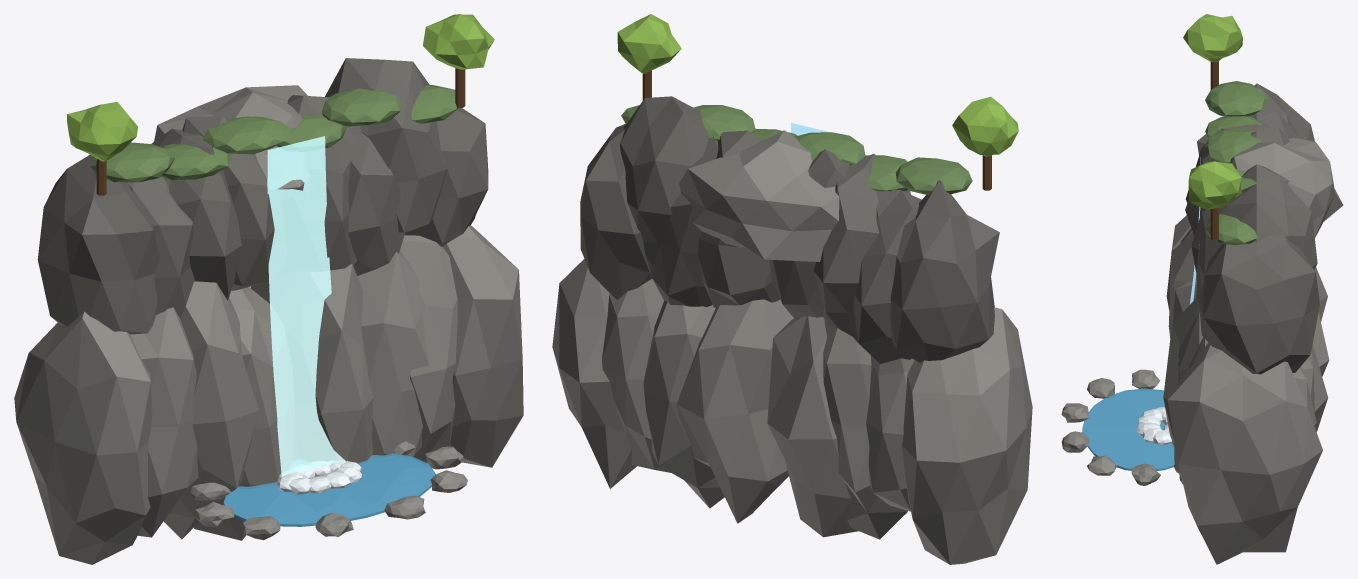
Rendered from for_waterfall_v01.glb.
3 renders of one model, left to right at view 1: azimuth 30°, elevation 25°; view 2: azimuth 150°, elevation 25°; view 3: azimuth 270°, elevation 25°, orthographic. The views are drawn at different scales.
Visible parts, largest first — view 1: waterfall; view 2: waterfall; view 3: waterfall.
Boxes of the visible parts, x1,y1,x2,y2 form: waterfall: (14, 14, 523, 564); waterfall: (552, 14, 1032, 564); waterfall: (1061, 14, 1343, 564).
Bounding box in the file's own units: 13.35 × 12.92 × 8.08.
